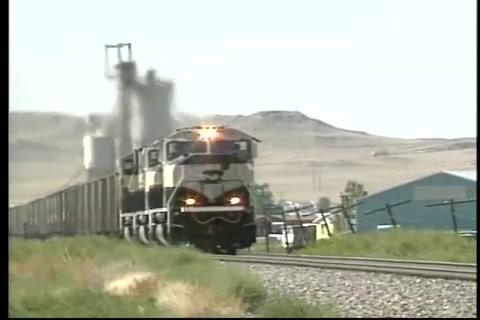train: (9, 123, 262, 250)
